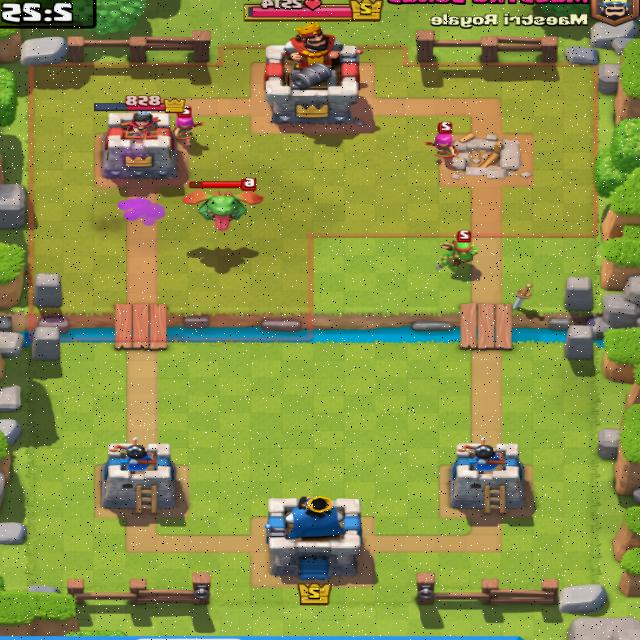Enemy-Archer: (170, 106, 202, 155), (426, 123, 458, 161)
Enemy-BabyDragon: (184, 177, 267, 231)
Enemy-SpearGoblin: (436, 231, 477, 272)
